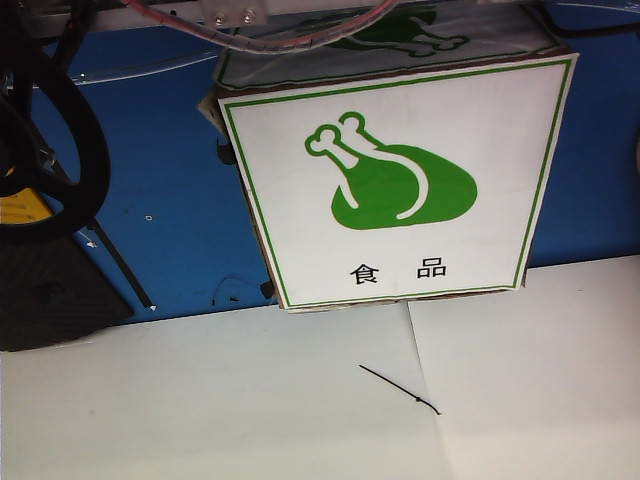Cube_food: (295, 103, 503, 289)
